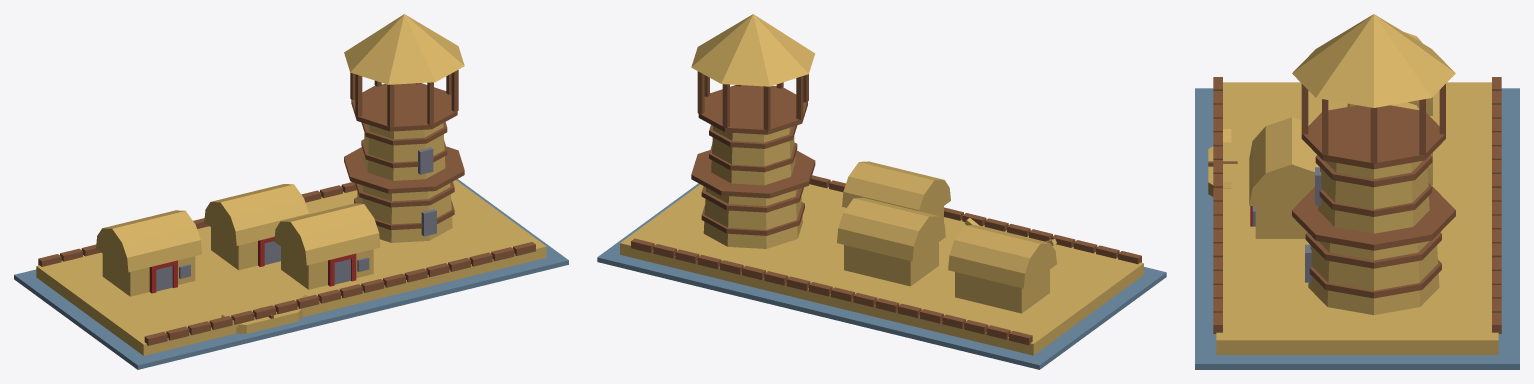
Rendered from house-2x1-2f-third-totora-a.glb.
The picture shows the model from 3 angles, left to right: view 1: azimuth 30°, elevation 25°; view 2: azimuth 150°, elevation 25°; view 3: azimuth 270°, elevation 25°; orthographic projection. The views are drawn at different scales.
Parts seen in each view (by area): view 1: house-2x1-2f-third-totora-a; view 2: house-2x1-2f-third-totora-a; view 3: house-2x1-2f-third-totora-a.
Part boxes in pixels (x1=…): house-2x1-2f-third-totora-a: x1=14, y1=14, x2=568, y2=369; house-2x1-2f-third-totora-a: x1=597, y1=14, x2=1166, y2=369; house-2x1-2f-third-totora-a: x1=1195, y1=14, x2=1519, y2=369.
Size of the model in its own units: 1.99 by 0.99 by 0.99.
1 material, 1 textured.
